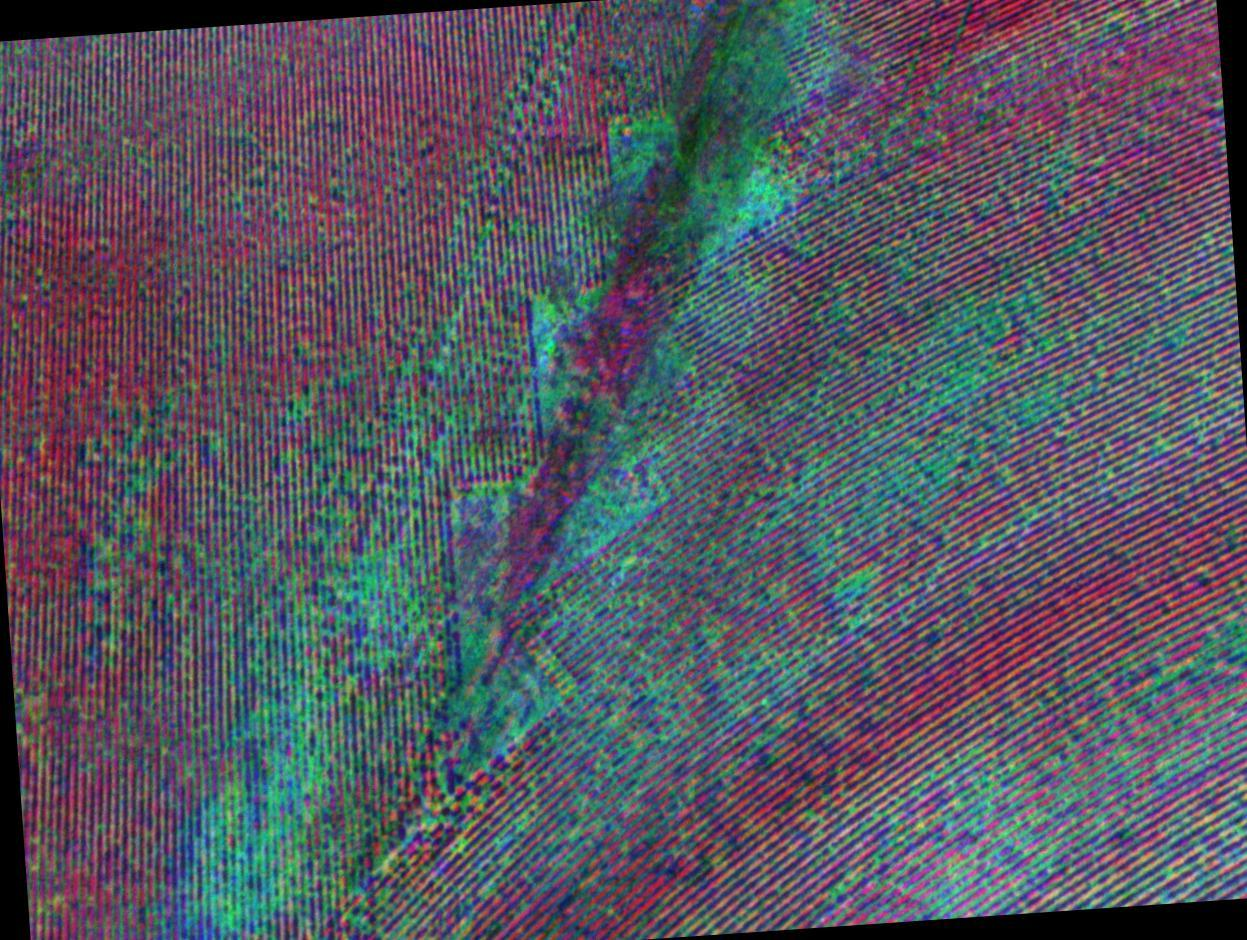dc: (191, 815, 295, 937), (938, 798, 1034, 914), (906, 358, 988, 463), (331, 545, 411, 628), (713, 163, 788, 230), (588, 480, 652, 537)
